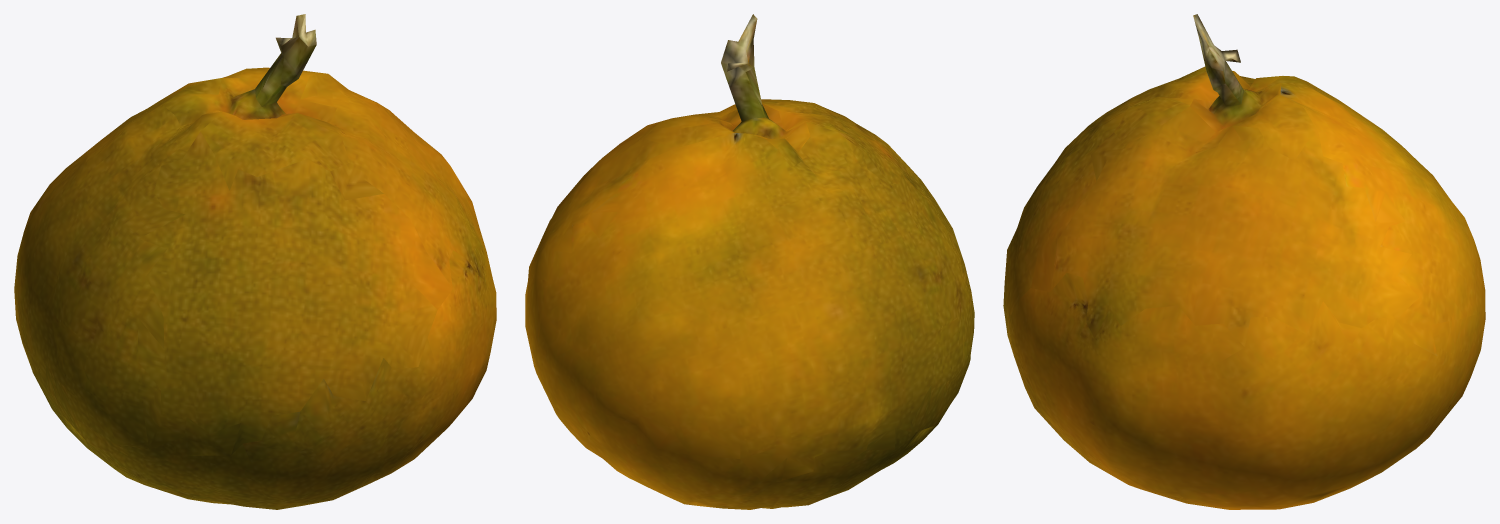
File: st_mandarin.gltf
The picture shows the model from 3 angles, left to right: view 1: azimuth 30°, elevation 25°; view 2: azimuth 150°, elevation 25°; view 3: azimuth 270°, elevation 25°; orthographic projection. The views are drawn at different scales.
Parts seen in each view (by area): view 1: Mandarin_1; view 2: Mandarin_1; view 3: Mandarin_1.
Part boxes in pixels (x1,y1,x2,y2): Mandarin_1: (14,14,496,509); Mandarin_1: (525,14,974,509); Mandarin_1: (1003,14,1485,509).
Bounding box in the file's own units: 0.061 × 0.0642 × 0.0612.
1 material, 1 textured.
